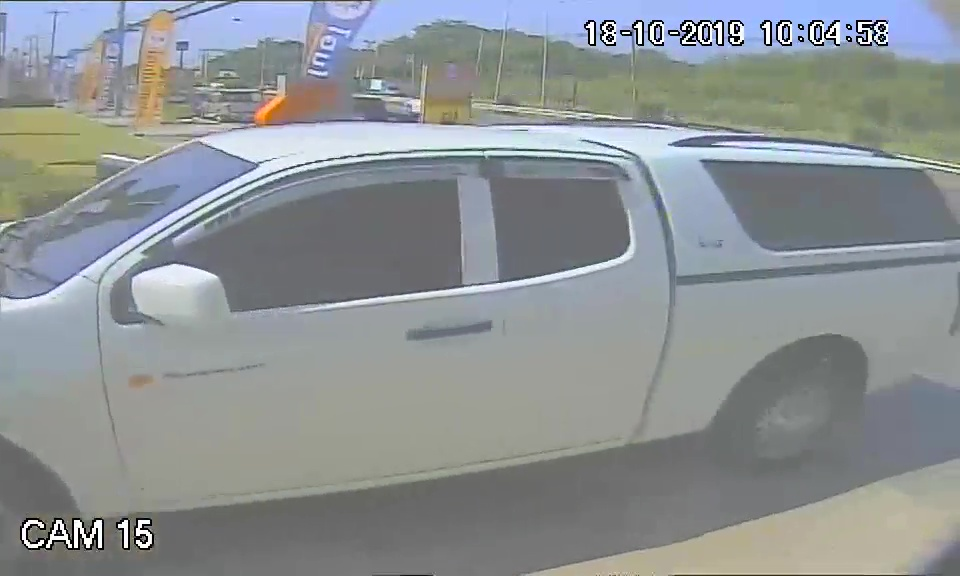pickup: (5, 119, 960, 474)
